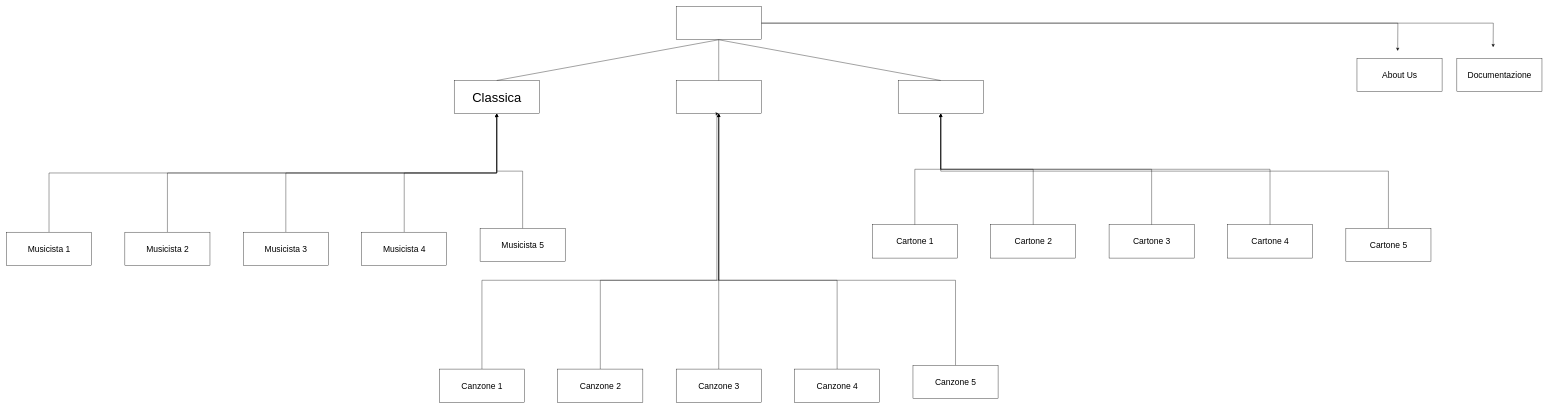
The diagram is 1548 pixels wide and 409 high, and some of its shapes have lost their labels. The shapes that lost their labels are listed below. From the top down, each one's box as (x1, y1, x2, y2) in pixels, then its label:
(676, 6, 761, 40): HOME
(676, 80, 761, 114): Le più famose
(898, 80, 983, 114): Disney
